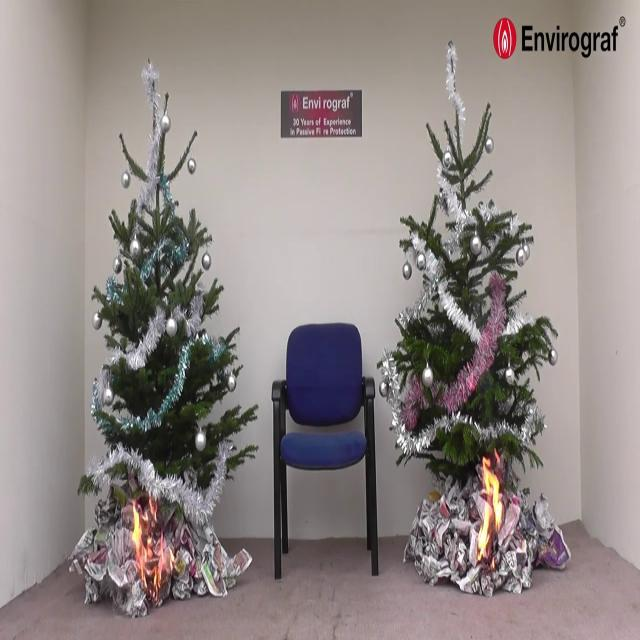Fire: (129, 495, 170, 599), (477, 456, 505, 564)
